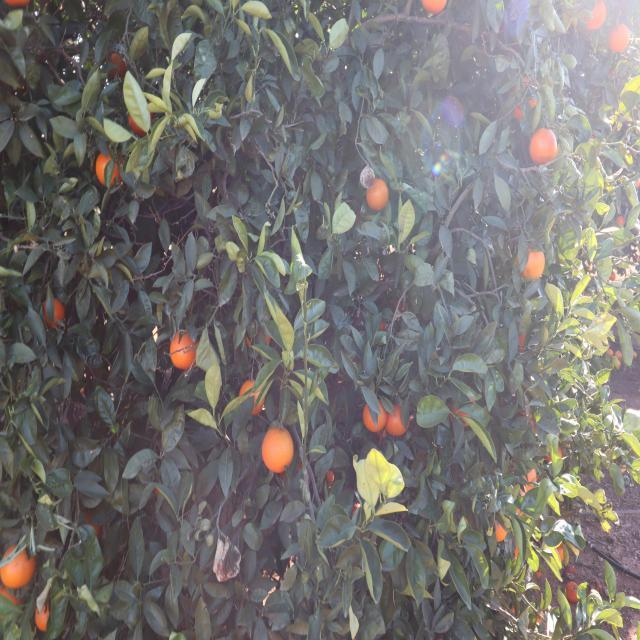Jeruk Sudah Matang: (1, 546, 38, 589), (261, 426, 294, 471), (94, 150, 123, 190), (171, 332, 198, 369), (531, 128, 558, 164), (237, 380, 266, 412), (362, 398, 386, 432), (386, 404, 411, 436), (40, 298, 66, 328), (520, 251, 545, 280), (584, 0, 608, 30), (366, 178, 388, 210), (102, 54, 128, 80), (518, 466, 536, 493), (128, 110, 146, 136), (610, 26, 628, 52), (419, 0, 449, 14), (494, 519, 509, 546), (35, 606, 51, 628)
